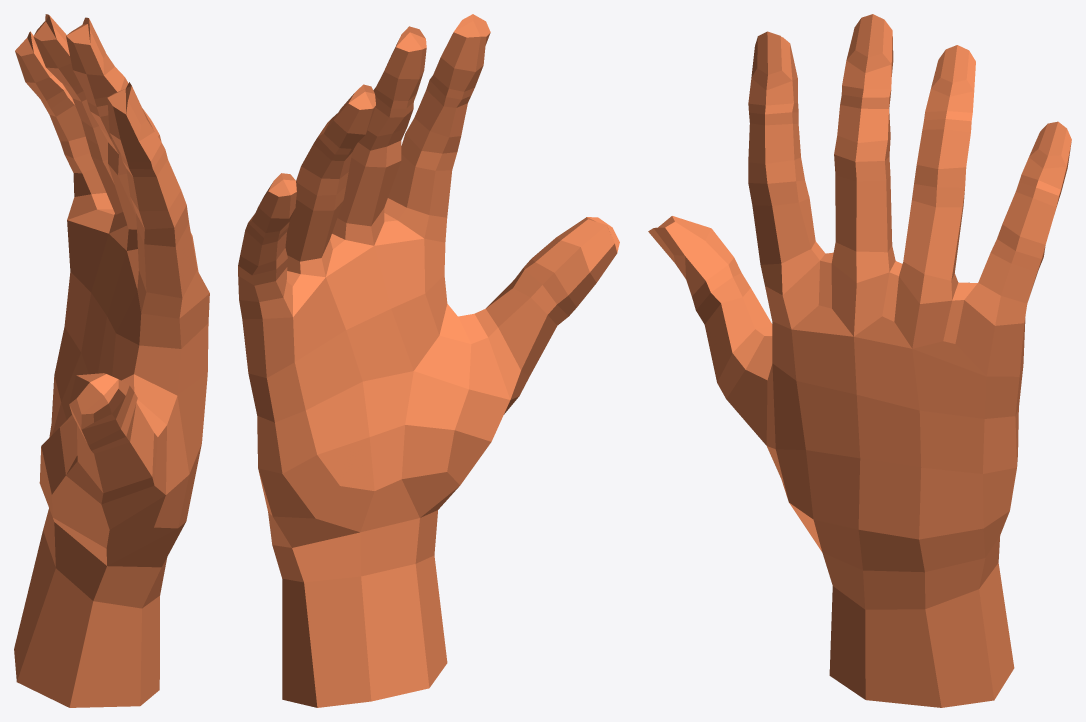
Rendered from Hand.fbx.
3 renders of one model, left to right at view 1: azimuth 30°, elevation 25°; view 2: azimuth 150°, elevation 25°; view 3: azimuth 270°, elevation 25°, orthographic. The views are drawn at different scales.
Parts seen in each view (by area): view 1: Plane005; view 2: Plane005; view 3: Plane005.
Part boxes in pixels (box(x1,y1,x2,y2)): Plane005: box(14, 14, 209, 707); Plane005: box(238, 14, 619, 707); Plane005: box(648, 14, 1071, 707).
Size of the model in its own units: 92.73 by 265 by 155.
